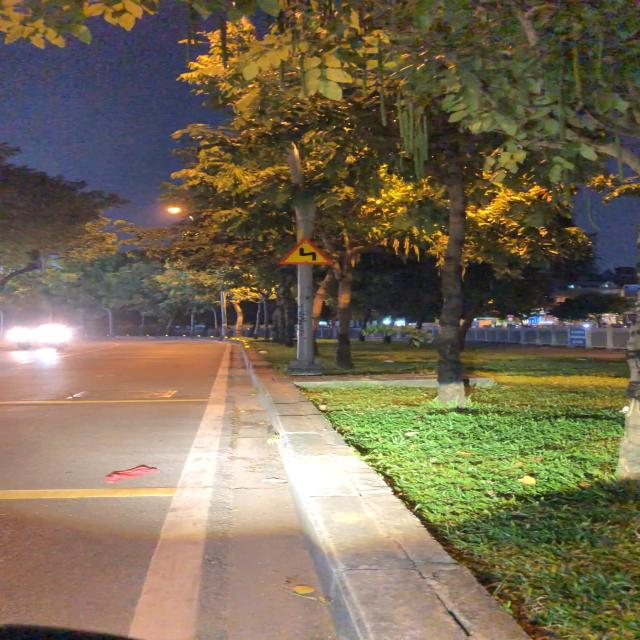Bien bao nhieu cho ngoat nguy hiem lien tiep: (276, 236, 336, 267)
